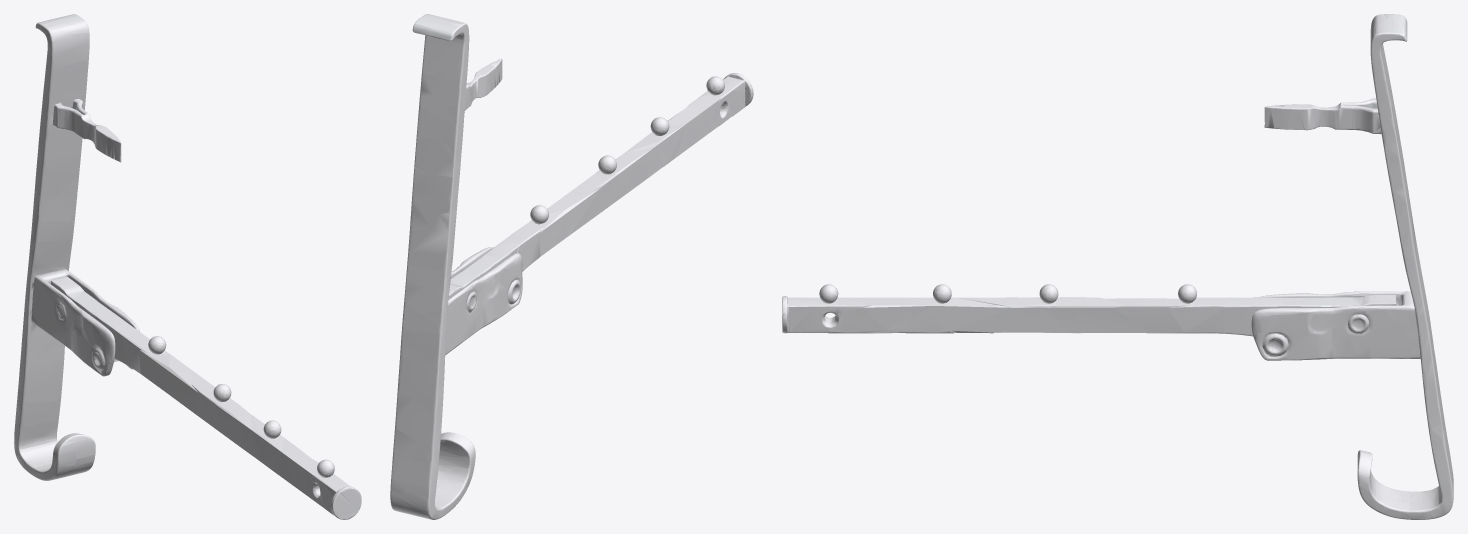
Rendered from target-com-p-over-the-door-drying-rack-foldable-and-extendab-2bbf22.glb.
3 renders of one model, left to right at view 1: azimuth 30°, elevation 25°; view 2: azimuth 150°, elevation 25°; view 3: azimuth 270°, elevation 25°, orthographic. The views are drawn at different scales.
Visible parts, largest first — view 1: Mesh_0; view 2: Mesh_0; view 3: Mesh_0.
Part boxes in pixels (x1=…): Mesh_0: x1=14, y1=14, x2=361, y2=519; Mesh_0: x1=390, y1=14, x2=753, y2=519; Mesh_0: x1=782, y1=14, x2=1453, y2=519.
Bounding box in the file's own units: 0.1375 × 1.52 × 1.9.
1 material, 1 textured.
